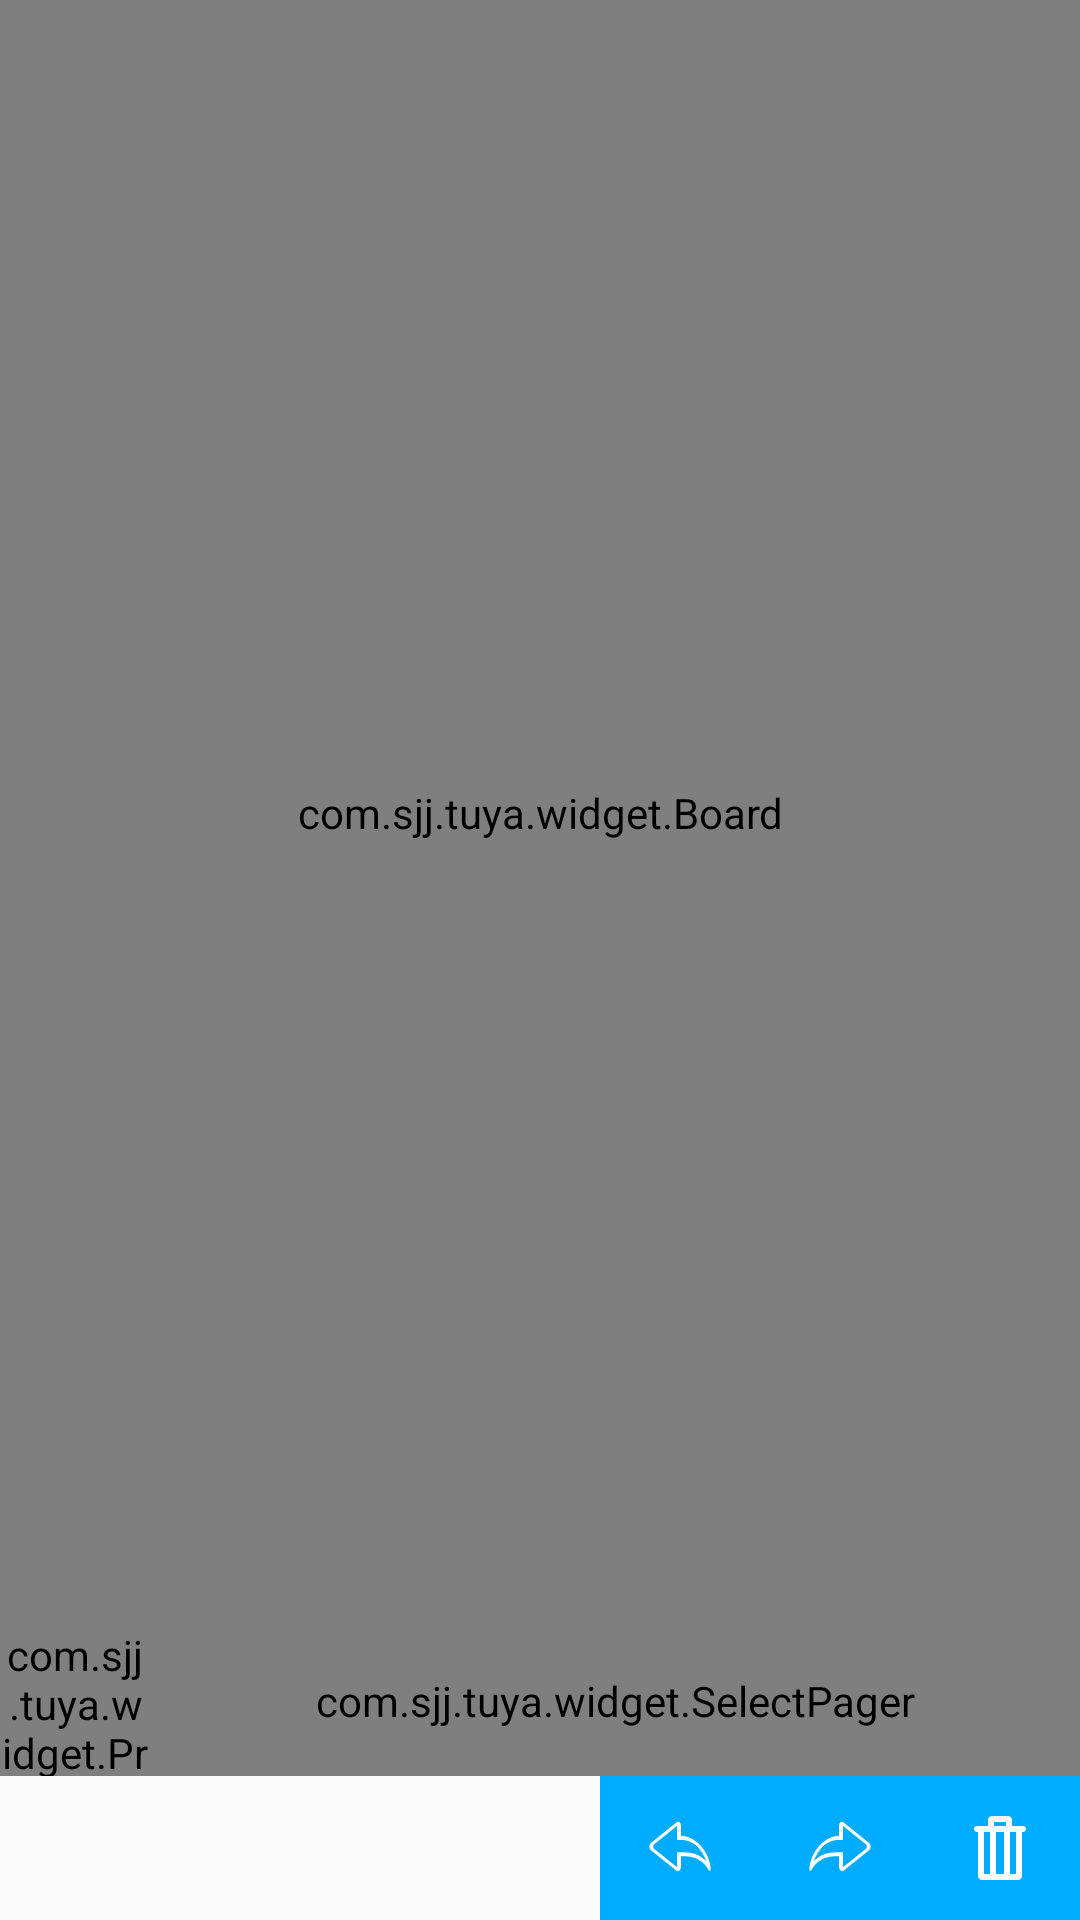

Icon click points for this 1080px x 1920px phone screenshot, format (x,y):
clear: (1000,1848)
hui: (680,1846)
redo: (840,1846)
